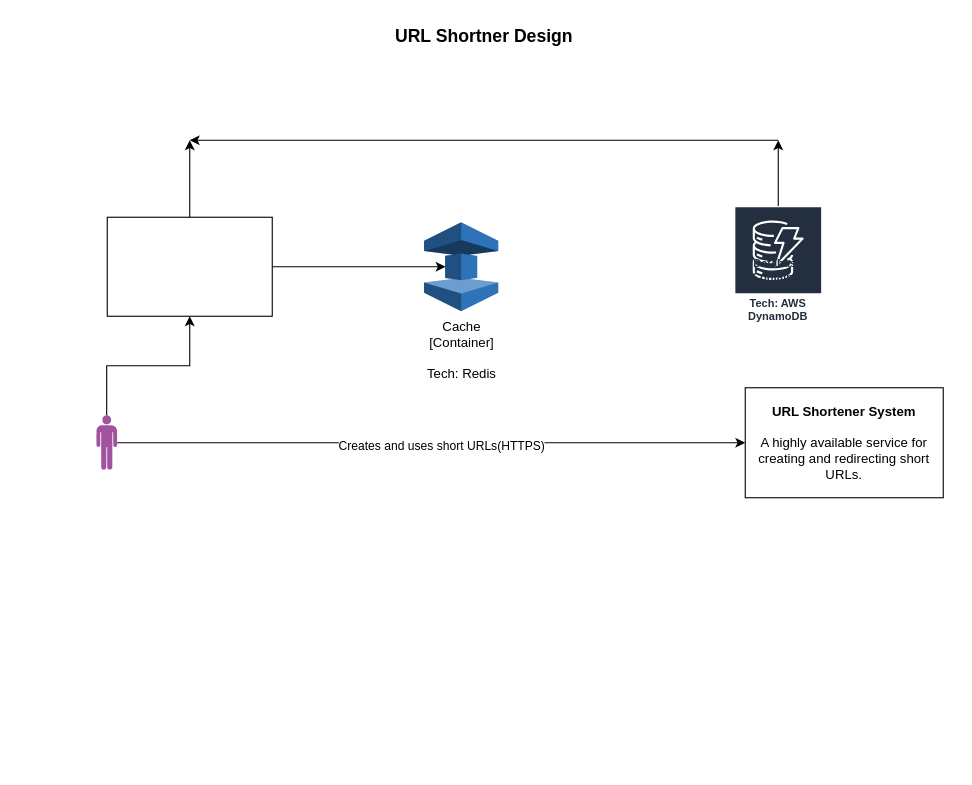
Some shapes in this 972 by 785 pixel diagram are drawn without their labels. The centre of each missing label's shape, as x and y in pixels:
Web Service (API) [Container] Tech: AWS Lambda / Node.js: point (189, 266)
webScrapper: point (106, 442)
